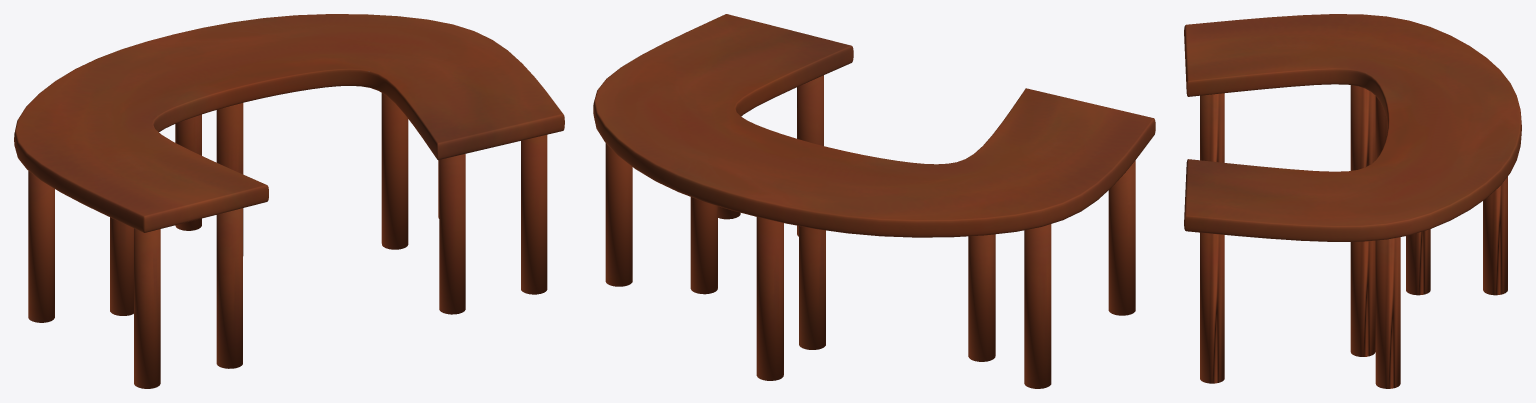
Rendered from Table.fbx.
The picture shows the model from 3 angles, left to right: view 1: azimuth 30°, elevation 25°; view 2: azimuth 150°, elevation 25°; view 3: azimuth 270°, elevation 25°; orthographic projection. The views are drawn at different scales.
Parts seen in each view (by area): view 1: Table1; view 2: Table1; view 3: Table1.
Boxes of the visible parts, left/top/right/bottom form: Table1: left=14, top=14, right=564, bottom=388; Table1: left=593, top=14, right=1155, bottom=388; Table1: left=1184, top=14, right=1521, bottom=388.
Bounding box in the file's own units: 3.7 × 1.37 × 2.47.
